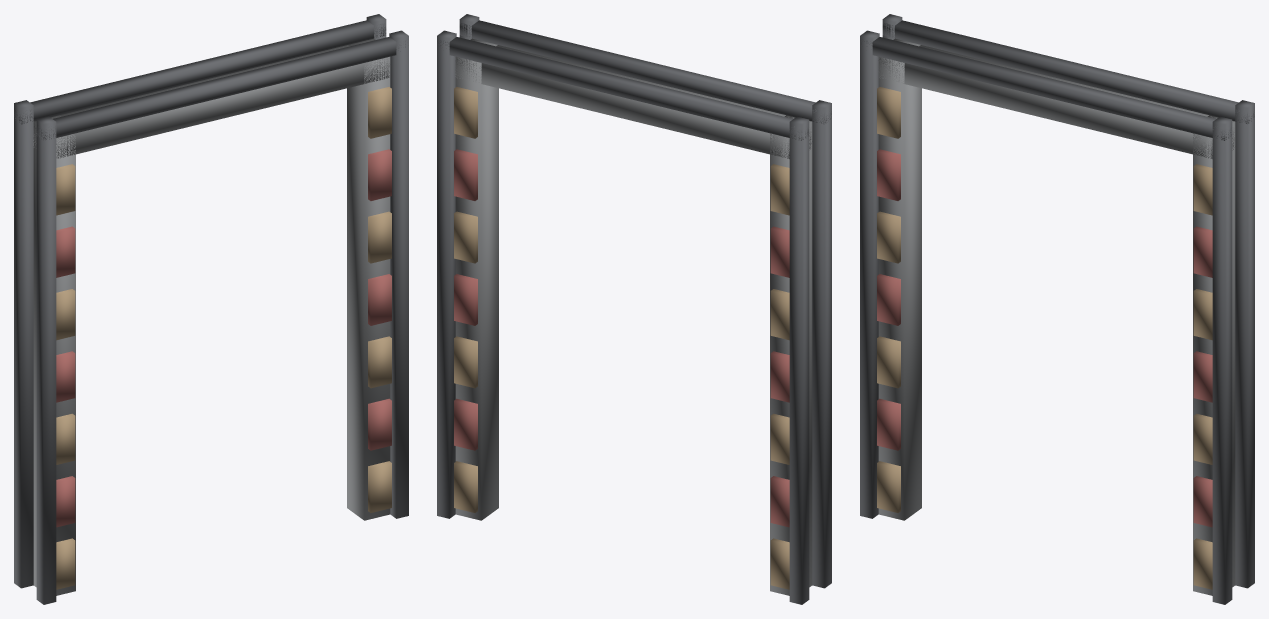
File: doorway_brick_return_w152_h220_d16.glb
3 renders of one model, left to right at view 1: azimuth 30°, elevation 25°; view 2: azimuth 150°, elevation 25°; view 3: azimuth 330°, elevation 25°, orthographic.
Visible parts, largest first — view 1: world; view 2: world; view 3: world.
Part boxes in pixels (x1,y1,x2,y2): world: [14, 14, 408, 604]; world: [437, 14, 831, 604]; world: [860, 14, 1254, 604].
Size of the model in its own units: 1.92 by 2.42 by 0.2716.
